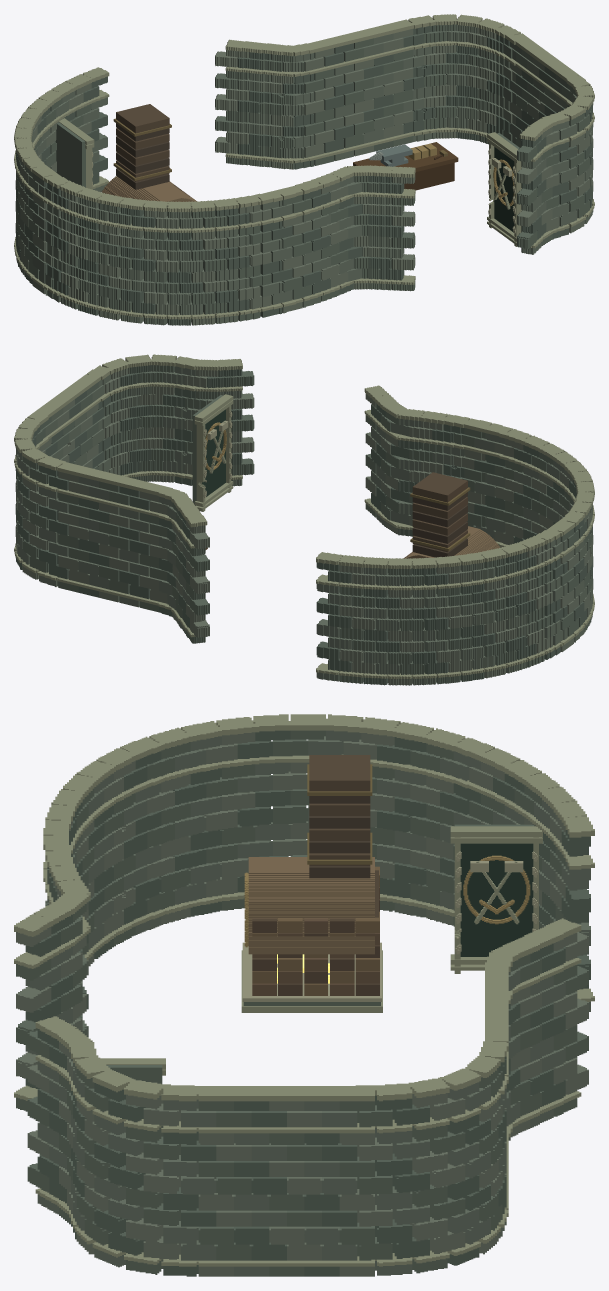
3 renders of one model, top to bottom at view 1: azimuth 30°, elevation 25°; view 2: azimuth 150°, elevation 25°; view 3: azimuth 270°, elevation 25°, orthographic. The views are drawn at different scales.
Parts seen in each view (by area): view 1: CarvedMasonry_1_-1_00, CarvedMasonry_-1_1_00, CarvedMasonry_-2_1_00, CarvedMasonry_-3_0_00, CarvedMasonry_0_-2_00, CarvedMasonry_2_-1_00, CarvedMasonry_1_1_00, CarvedMasonry_0_-1_00, CarvedMasonry_-2_0_00, CarvedArchedFurnace_00, CarvedMasonry_0_1_00, CarvedMasonry_2_0_00 (+8 smaller); view 2: CarvedMasonry_1_-1_00, CarvedMasonry_-2_-2_00, CarvedMasonry_-1_1_00, CarvedMasonry_-3_-1_00, CarvedMasonry_2_0_00, CarvedMasonry_1_1_00, CarvedMasonry_-2_1_00, CarvedMasonry_-2_-1_00, CarvedMasonry_0_-1_00, CarvedArchedFurnace_00, CarvedMasonry_0_-2_00, CarvedMasonry_-3_0_00 (+6 smaller); view 3: CarvedMasonry_2_0_00, CarvedMasonry_2_-1_00, CarvedArchedFurnace_00, CarvedMasonry_-3_0_00, CarvedMasonry_-3_-1_00, CarvedMasonry_0_-2_00, CarvedMasonry_1_1_00, Heraldry_05_01, CarvedMasonry_-2_0_00, CarvedMasonry_1_-1_00, CarvedMasonry_-2_1_00, CarvedMasonry_-2_-2_00 (+7 smaller).
Boxes of the visible parts, box(x1,y1,x2,y2) form: CarvedMasonry_1_-1_00: box(327, 14, 468, 160); CarvedMasonry_-1_1_00: box(255, 165, 380, 317); CarvedMasonry_-2_1_00: box(155, 195, 271, 325); CarvedMasonry_-3_0_00: box(31, 165, 123, 320); CarvedMasonry_0_-2_00: box(215, 39, 295, 169); CarvedMasonry_2_-1_00: box(456, 14, 544, 147); CarvedMasonry_1_1_00: box(517, 105, 585, 254); CarvedMasonry_0_-1_00: box(282, 39, 343, 169); CarvedMasonry_-2_0_00: box(109, 197, 168, 325); CarvedArchedFurnace_00: box(101, 104, 196, 201); CarvedMasonry_0_1_00: box(368, 165, 415, 291); CarvedMasonry_2_0_00: box(527, 50, 594, 223); CarvedMasonry_1_-1_00: box(18, 448, 146, 607); CarvedMasonry_-2_-2_00: box(328, 555, 448, 685); CarvedMasonry_-1_1_00: box(381, 403, 513, 547); CarvedMasonry_-3_-1_00: box(479, 528, 567, 678); CarvedMasonry_2_0_00: box(51, 354, 151, 481); CarvedMasonry_1_1_00: box(151, 354, 254, 486); CarvedMasonry_-2_1_00: box(494, 429, 577, 546); CarvedMasonry_-2_-1_00: box(435, 552, 495, 684); CarvedMasonry_0_-1_00: box(129, 482, 184, 616); CarvedArchedFurnace_00: box(403, 472, 499, 558); CarvedMasonry_0_-2_00: box(170, 493, 209, 643); CarvedMasonry_-3_0_00: box(549, 481, 594, 651); CarvedMasonry_2_0_00: box(92, 1069, 321, 1276); CarvedMasonry_2_-1_00: box(304, 1068, 480, 1276); CarvedArchedFurnace_00: box(241, 755, 382, 1012); CarvedMasonry_-3_0_00: box(149, 714, 325, 924); CarvedMasonry_-3_-1_00: box(308, 714, 465, 925); CarvedMasonry_0_-2_00: box(491, 918, 588, 1137); CarvedMasonry_1_1_00: box(27, 1016, 110, 1254); Heraldry_05_01: box(450, 824, 542, 973); CarvedMasonry_-2_0_00: box(96, 736, 174, 946); CarvedMasonry_1_-1_00: box(463, 981, 508, 1254); CarvedMasonry_-2_1_00: box(45, 761, 123, 966); CarvedMasonry_-2_-2_00: box(493, 760, 588, 989).
Size of the model in its own units: 27.6 by 7.32 by 17.76.
